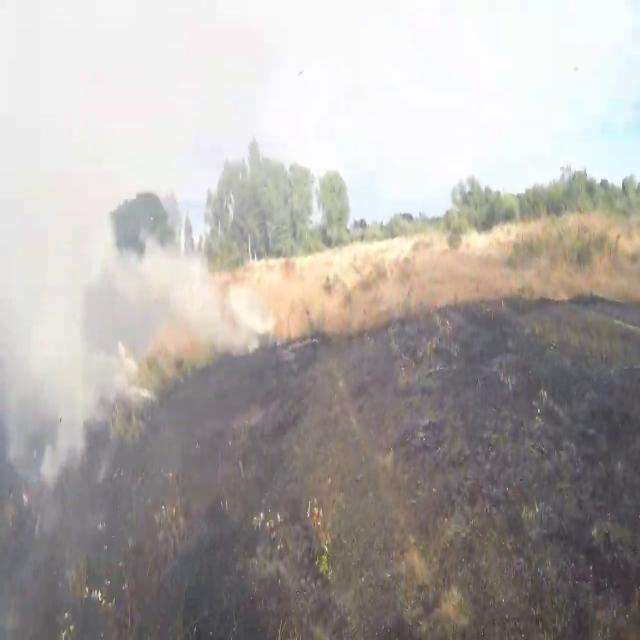Smoke: (0, 12, 223, 601)
